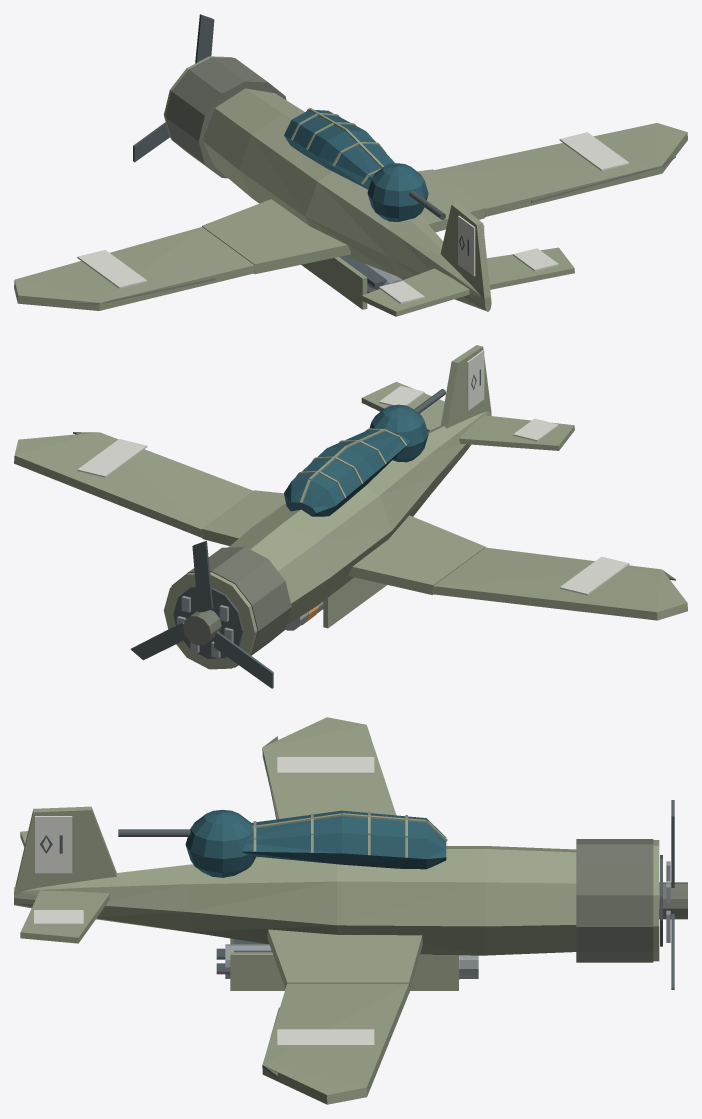
Rendered from ENE_Ww2TorpedoBomber_01.fbx.
3 views of the same model, one above another, from view 1: azimuth 30°, elevation 25°; view 2: azimuth 150°, elevation 25°; view 3: azimuth 270°, elevation 25° (orthographic). The views are drawn at different scales.
Visible parts, largest first — view 1: ENE_Ww2TorpedoBomber_01_Visual, Propeller_Visual; view 2: ENE_Ww2TorpedoBomber_01_Visual, Propeller_Visual; view 3: ENE_Ww2TorpedoBomber_01_Visual, Propeller_Visual.
Boxes of the visible parts, left/top/right/bottom form: ENE_Ww2TorpedoBomber_01_Visual: left=14, top=56, right=687, bottom=316; Propeller_Visual: left=133, top=14, right=214, bottom=162; ENE_Ww2TorpedoBomber_01_Visual: left=14, top=345, right=687, bottom=669; Propeller_Visual: left=130, top=540, right=273, bottom=688; ENE_Ww2TorpedoBomber_01_Visual: left=14, top=717, right=670, bottom=1104; Propeller_Visual: left=659, top=800, right=687, bottom=989.
Bounding box in the file's own units: 360 × 78.3 × 271.
